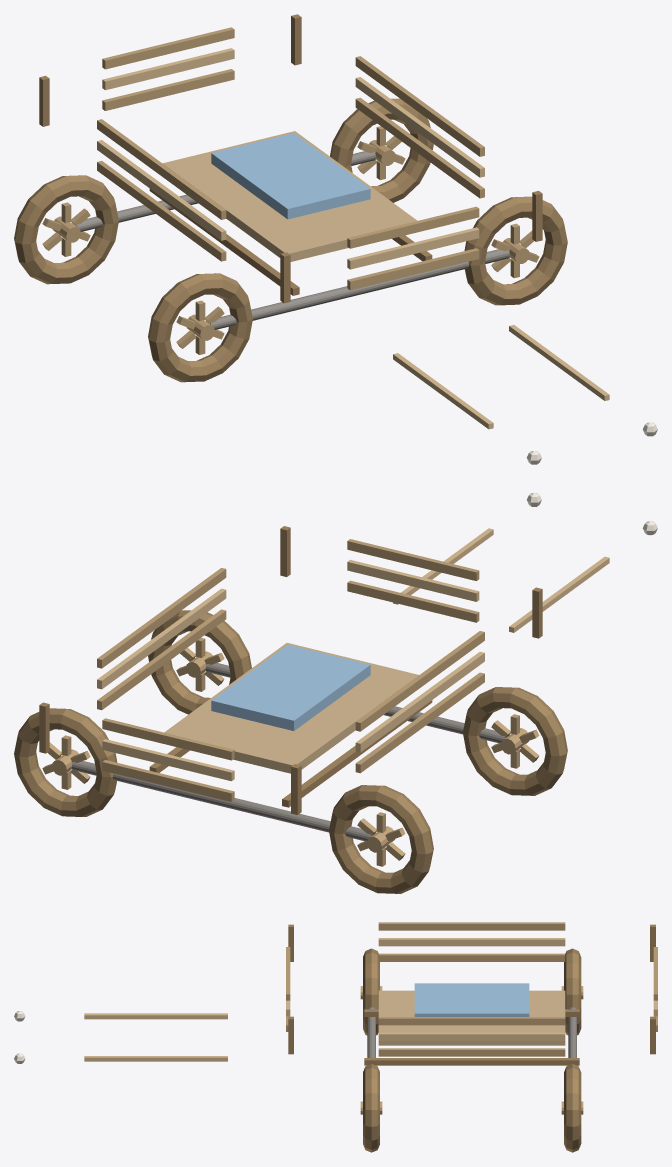
Rendered from Cargo_Wagon.glb.
The picture shows the model from 3 angles, top to bottom: view 1: azimuth 30°, elevation 25°; view 2: azimuth 150°, elevation 25°; view 3: azimuth 270°, elevation 25°; orthographic projection. The views are drawn at different scales.
Parts seen in each view (by area): view 1: Cargo_Wagon; view 2: Cargo_Wagon; view 3: Cargo_Wagon.
Part boxes in pixels (left/top/right/bottom): Cargo_Wagon: left=14, top=14, right=657, bottom=464; Cargo_Wagon: left=14, top=493, right=657, bottom=893; Cargo_Wagon: left=14, top=922, right=657, bottom=1152.
Size of the model in its own units: 2.52 by 0.925 by 4.49.
